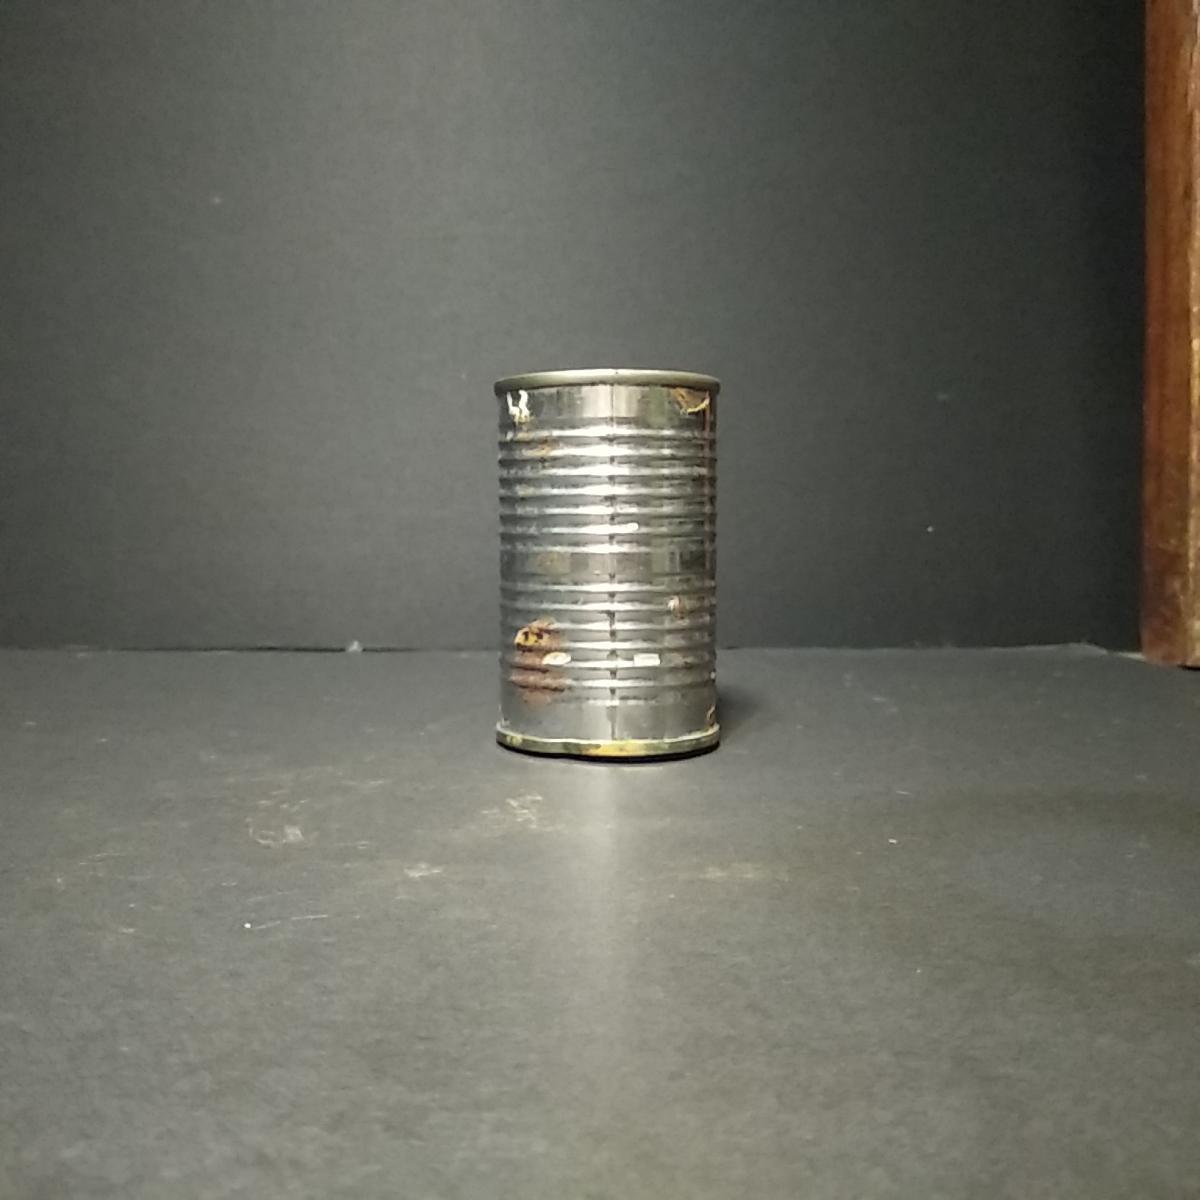Rusted: (484, 356, 740, 773)
